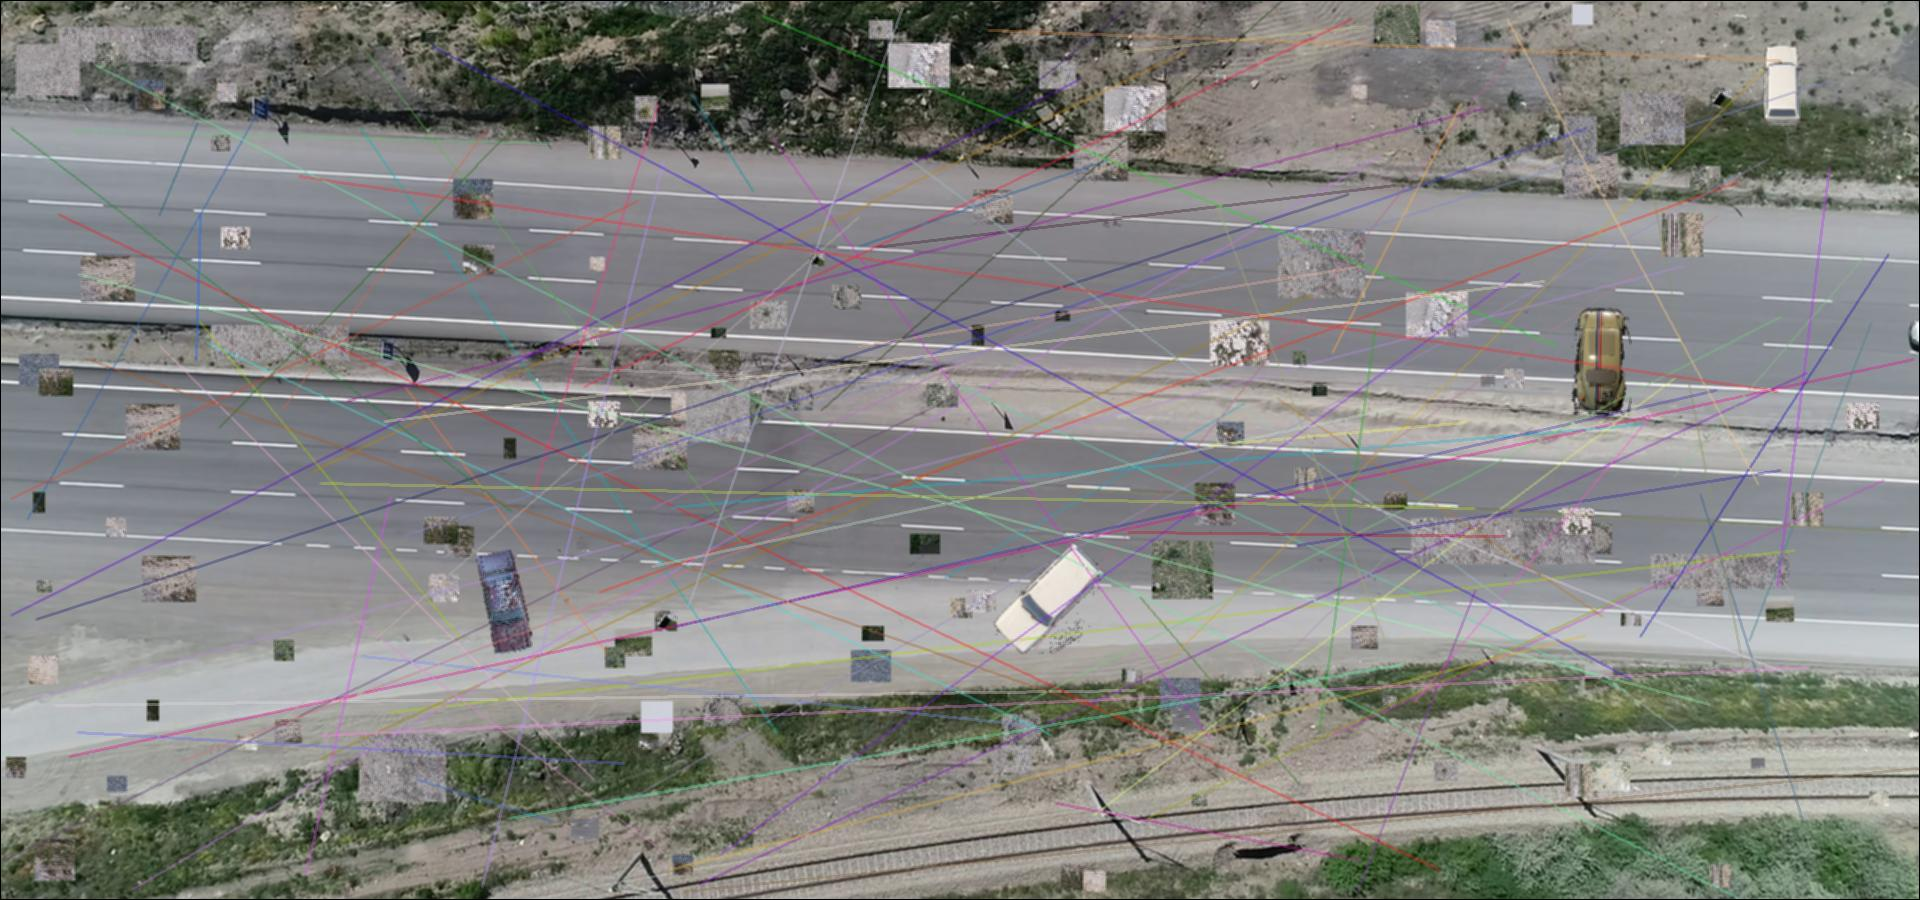arac: (987, 542, 1106, 654), (1571, 309, 1631, 415), (474, 550, 535, 654), (1762, 44, 1802, 126)
